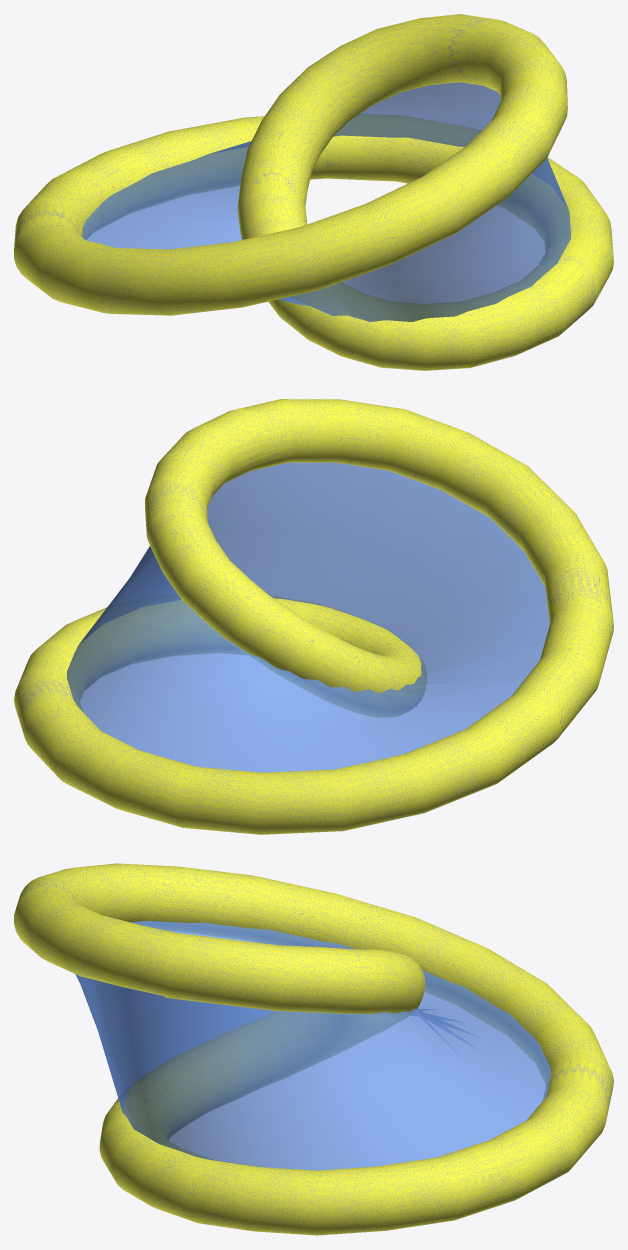
The picture shows the model from 3 angles, top to bottom: view 1: azimuth 30°, elevation 25°; view 2: azimuth 150°, elevation 25°; view 3: azimuth 270°, elevation 25°; orthographic projection. The views are drawn at different scales.
Visible parts, largest first — view 1: SketchUp (×2); view 2: SketchUp (×2); view 3: SketchUp (×2).
Boxes of the visible parts, bbox=[...] form: SketchUp (×2): bbox=[14, 14, 613, 370]; SketchUp (×2): bbox=[14, 399, 613, 834]; SketchUp (×2): bbox=[14, 863, 613, 1235].
Bounding box in the file's own units: 16165 × 15817 × 7768.
